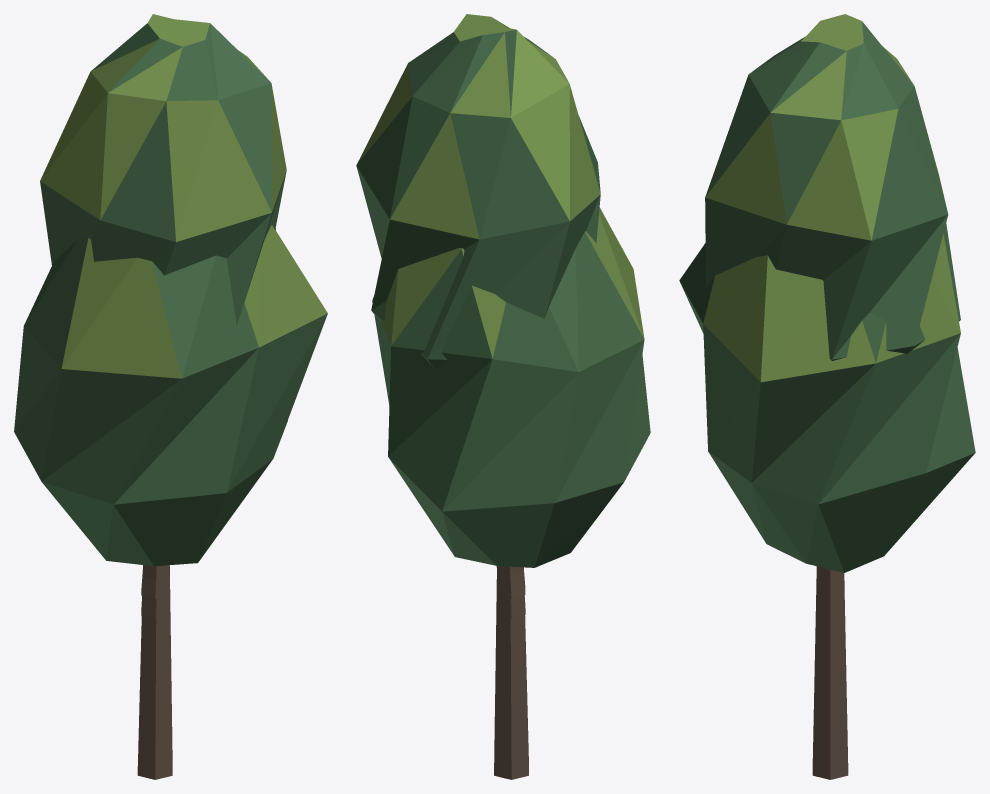
File: TREE_02.glb
The picture shows the model from 3 angles, left to right: view 1: azimuth 30°, elevation 25°; view 2: azimuth 150°, elevation 25°; view 3: azimuth 270°, elevation 25°; orthographic projection.
Parts seen in each view (by area): view 1: CIVRUM_GAME_TREE_02; view 2: CIVRUM_GAME_TREE_02; view 3: CIVRUM_GAME_TREE_02.
Part boxes in pixels (x1,y1,x2,y2): CIVRUM_GAME_TREE_02: (14,14,327,779); CIVRUM_GAME_TREE_02: (356,14,650,779); CIVRUM_GAME_TREE_02: (679,14,975,779).
Size of the model in its own units: 2.45 by 6.91 by 2.45.
